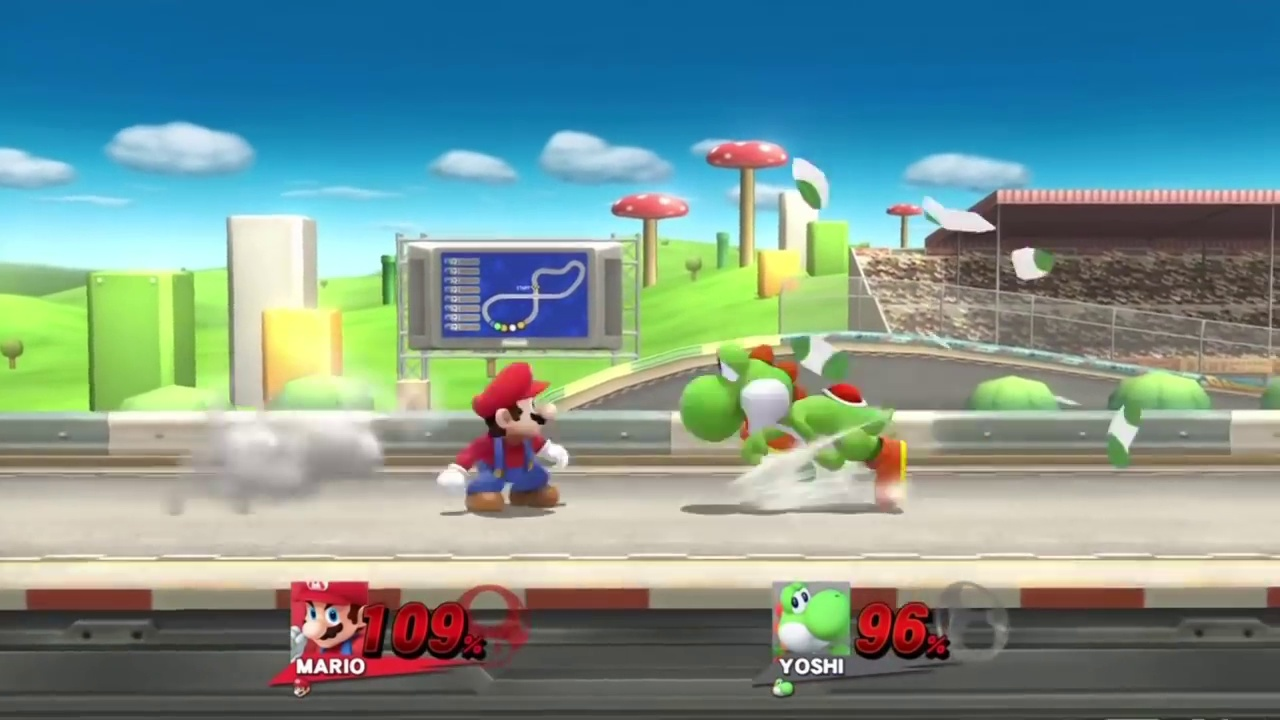Mario: (435, 363, 573, 517)
